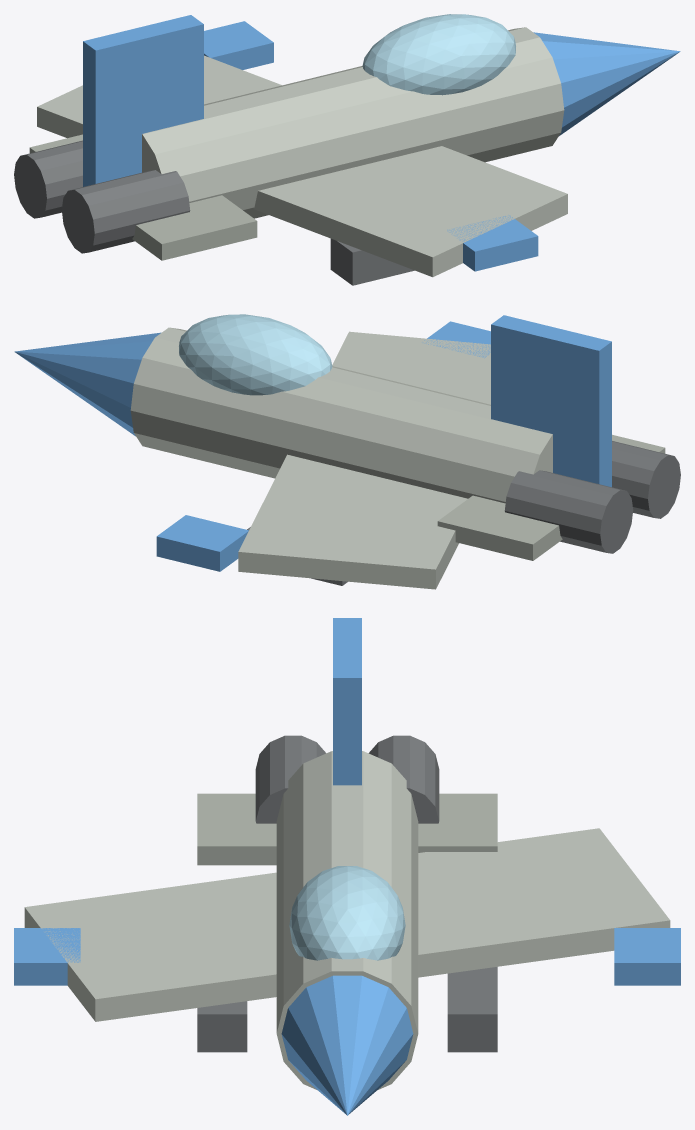
The model's file is jet_blue.glb.
3 views of the same model, one above another, from view 1: azimuth 30°, elevation 25°; view 2: azimuth 150°, elevation 25°; view 3: azimuth 270°, elevation 25° (orthographic). The views are drawn at different scales.
Visible parts, largest first — view 1: part00, part03, part06, part02, part08, part01, part07, part09, part04, part05, part10; view 2: part00, part03, part06, part02, part09, part01, part07, part08, part05, part04; view 3: part03, part00, part01, part07, part02, part06, part11, part05, part04, part08, part09, part10.
Boxes of the visible parts, <box> form: part00: <box>142,27,564,218</box>; part03: <box>37,55,567,277</box>; part06: <box>83,15,203,186</box>; part02: <box>362,14,515,95</box>; part08: <box>61,170,190,253</box>; part01: <box>533,32,680,135</box>; part07: <box>29,134,257,260</box>; part09: <box>14,140,82,218</box>; part04: <box>447,215,538,271</box>; part05: <box>204,21,273,69</box>; part10: <box>330,238,414,285</box>; part00: <box>130,327,552,503</box>; part03: <box>238,331,490,589</box>; part06: <box>491,315,611,487</box>; part02: <box>179,314,332,395</box>; part09: <box>504,470,633,553</box>; part01: <box>14,332,161,436</box>; part07: <box>437,434,665,560</box>; part08: <box>612,441,680,518</box>; part05: <box>156,515,248,571</box>; part04: <box>422,321,490,358</box>; part03: <box>24,828,670,1021</box>; part00: <box>276,751,418,1090</box>; part01: <box>281,975,413,1115</box>; part07: <box>197,793,497,865</box>; part02: <box>289,866,405,960</box>; part06: <box>333,618,361,785</box>; part11: <box>447,966,497,1052</box>; part05: <box>614,928,680,985</box>; part04: <box>14,928,80,985</box>; part08: <box>255,735,326,823</box>; part09: <box>368,735,439,823</box>; part10: <box>197,1001,247,1052</box>.
Size of the model in its own units: 1.97 by 0.72 by 1.6.
